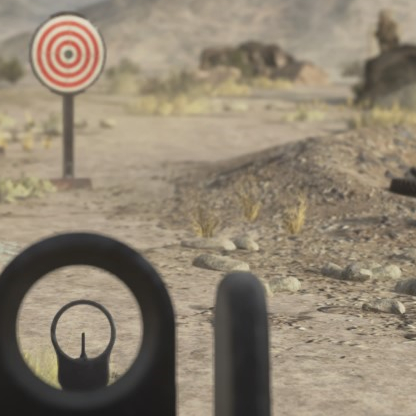target: (27, 12, 107, 95)
